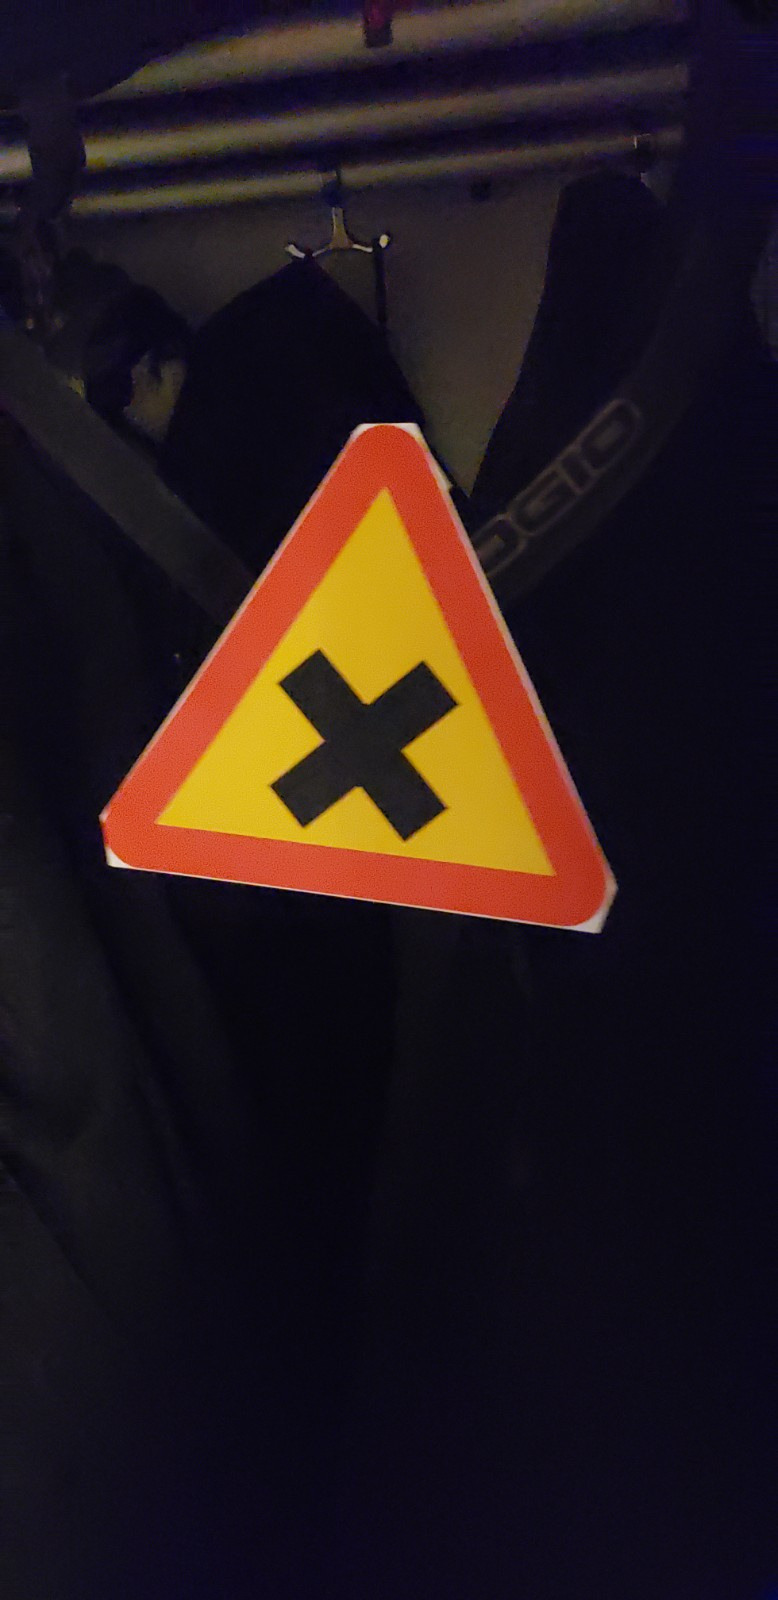junction: (68, 367, 669, 986)
